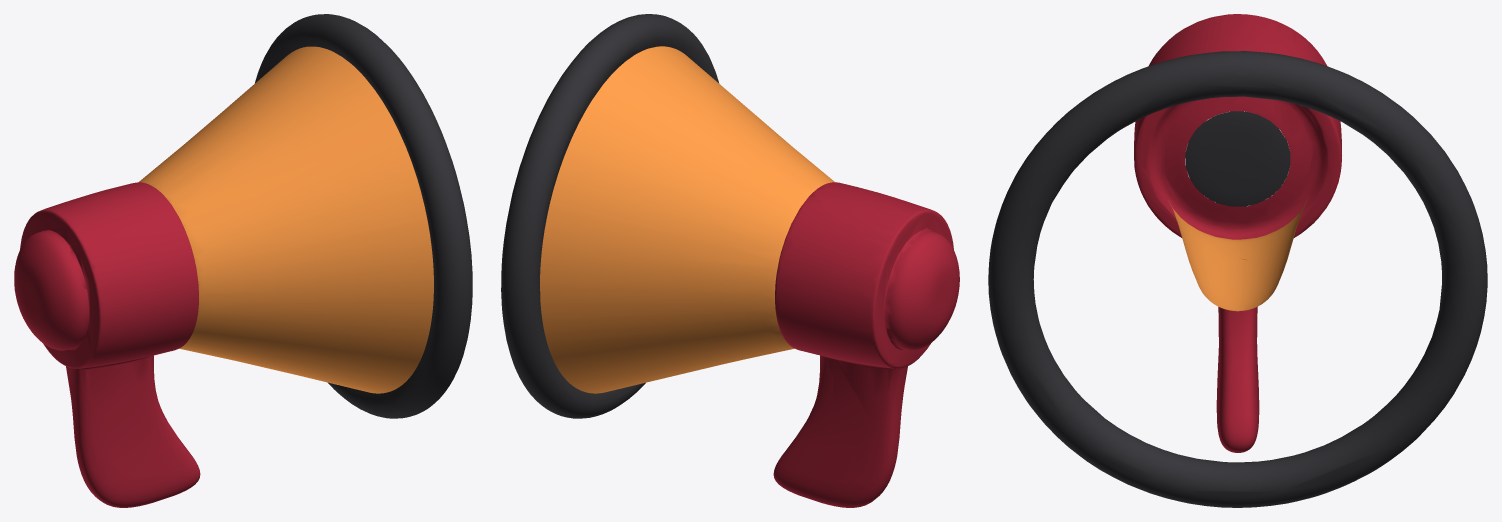
Rendered from megaphone.glb.
The picture shows the model from 3 angles, left to right: view 1: azimuth 30°, elevation 25°; view 2: azimuth 150°, elevation 25°; view 3: azimuth 270°, elevation 25°; orthographic projection. The views are drawn at different scales.
Parts seen in each view (by area): view 1: Annoucement; view 2: Annoucement; view 3: Annoucement.
Boxes of the visible parts, <box> form: Annoucement: <box>14,14,472,507</box>; Annoucement: <box>501,14,959,507</box>; Annoucement: <box>988,14,1487,507</box>.
Size of the model in its own units: 1.61 by 1.87 by 1.67.
